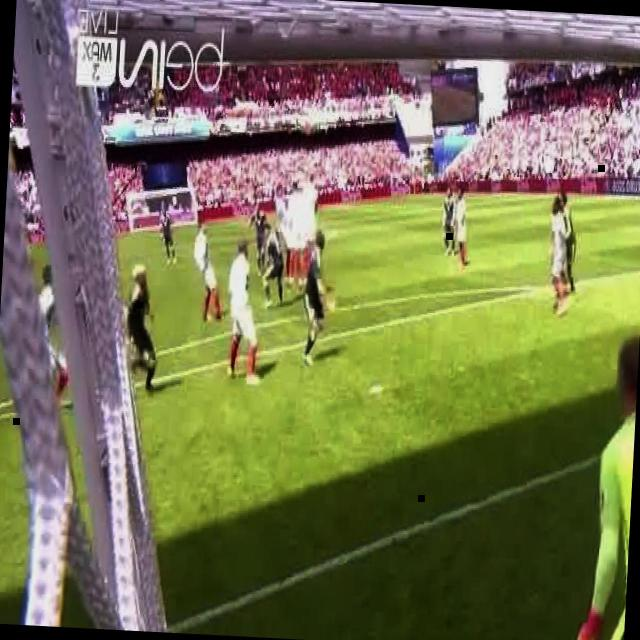player-white: (569, 330, 639, 640), (224, 239, 270, 383), (124, 263, 163, 387), (300, 230, 329, 368), (190, 220, 228, 324), (545, 195, 575, 317), (553, 174, 580, 296), (283, 178, 307, 292), (260, 220, 286, 314), (300, 171, 319, 285), (245, 200, 270, 278), (157, 201, 181, 265), (453, 186, 470, 270), (440, 188, 458, 258)
